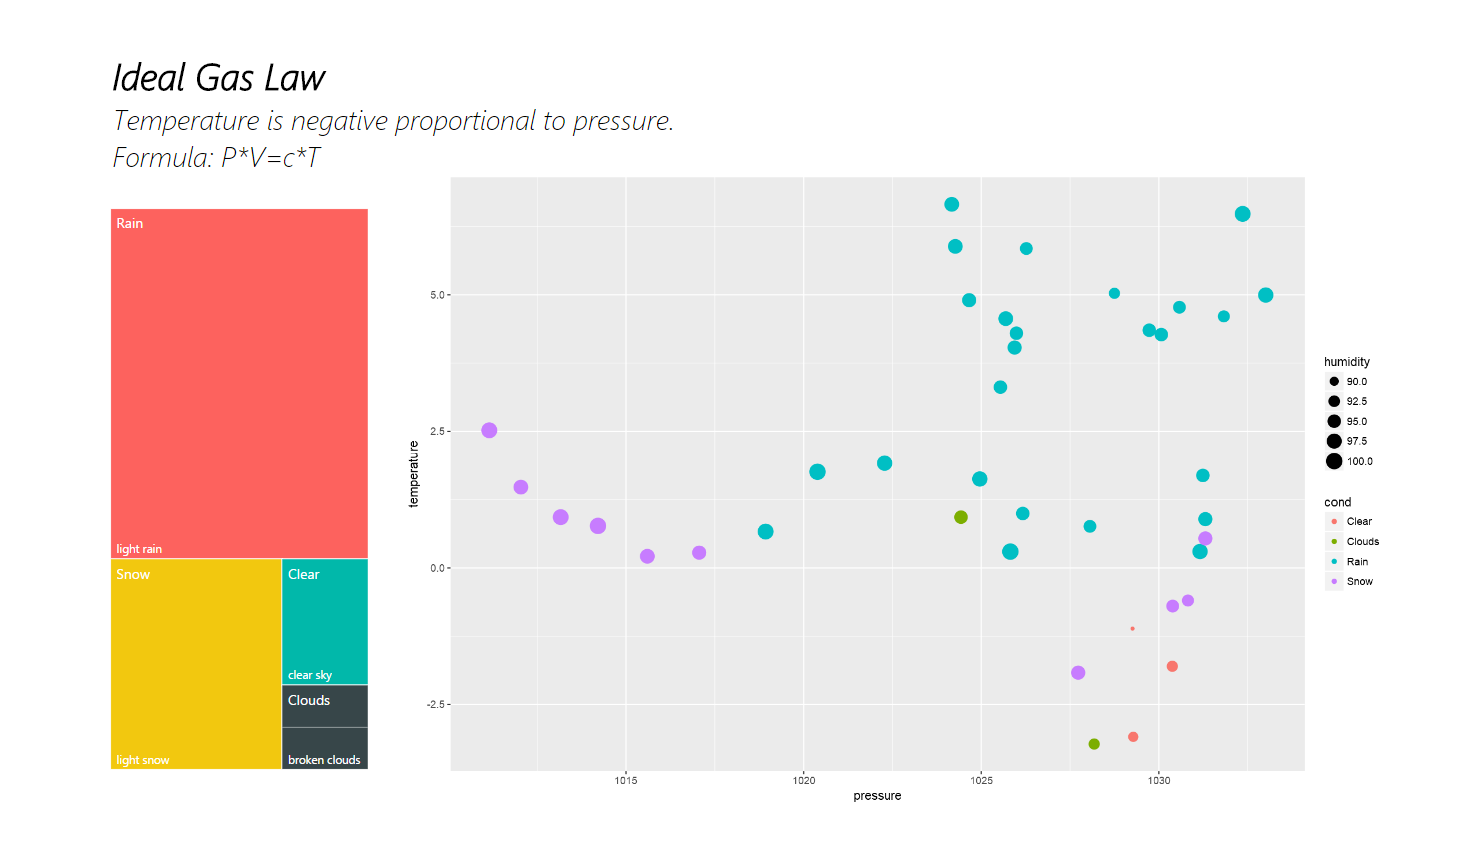

The page's visual inventory and layout, read from the dashboard file:
{"tool":"powerbi","page":{"name":"r script test","canvas":[1280,720],"ordinal":2},"visuals":[{"type":"scriptVisual","fields":{"Values":["weatherData.cond","weatherData.ground_level","weatherData.humidity","weatherData.pressure","weatherData.sea_level","weatherData.temperature","weatherData.wind_degree","weatherData.wind_speed"]},"box":[347.9,128.8,866.4,579],"z":1},{"type":"textbox","box":[97.7,25.1,547.1,134.8],"z":2},{"type":"treemap","fields":{"Group":["weatherData.cond"],"Details":["weatherData.condition"],"Values":["CountNonNull(weatherData.condition)"]},"box":[96,162.9,232.3,493.7],"z":6}]}

Visuals, with their boxes in screenshot pixels (x1, y1, x2, y2), scaled from the page's 1280x720 canvas onto the 1471x847 screenshot:
scriptVisual - weatherData.cond x weatherData.ground_level: box(400, 152, 1395, 833)
textbox: box(112, 30, 741, 188)
treemap - weatherData.cond x weatherData.condition: box(110, 192, 377, 772)
